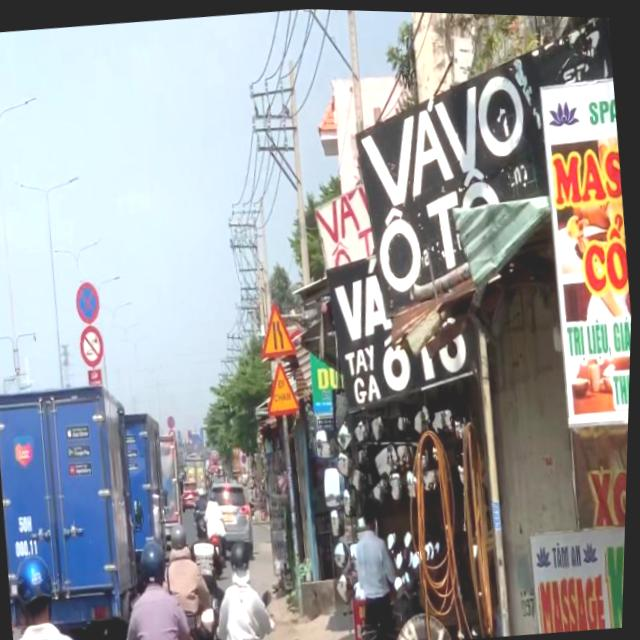Cam dung xe va do xe: (73, 277, 105, 325)
Di cham: (264, 356, 305, 416)
